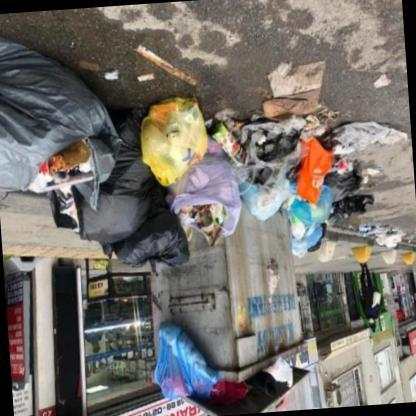Garbage: (0, 8, 104, 218), (47, 102, 158, 253), (220, 116, 310, 226), (130, 76, 199, 186), (166, 155, 246, 243), (150, 314, 214, 407), (116, 216, 196, 284), (254, 86, 336, 150), (323, 96, 400, 160), (288, 164, 335, 256), (206, 103, 244, 169), (208, 367, 250, 412), (245, 179, 284, 222), (264, 350, 298, 392), (363, 216, 410, 246), (336, 184, 369, 222), (322, 152, 369, 178)
